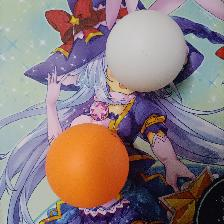WhiteBall: (104, 9, 188, 92)
YellowBall: (44, 122, 129, 208)
